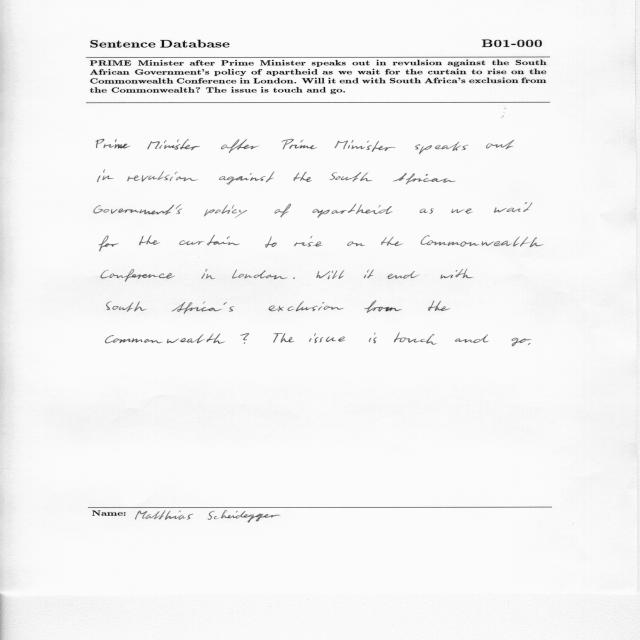word: (421, 235, 544, 247), (105, 333, 225, 344), (313, 204, 393, 218), (94, 204, 182, 215), (101, 269, 175, 282), (269, 301, 344, 312), (127, 171, 198, 182), (172, 302, 234, 314), (335, 140, 396, 152), (219, 172, 274, 185), (393, 173, 456, 184), (415, 142, 468, 155), (179, 236, 240, 246), (204, 204, 247, 218), (147, 139, 200, 150), (232, 270, 288, 280), (221, 139, 259, 153), (394, 333, 437, 345), (364, 300, 402, 313), (107, 301, 147, 312), (330, 172, 372, 182), (494, 203, 532, 213), (309, 333, 345, 343), (282, 139, 317, 149), (441, 269, 474, 279), (294, 236, 323, 247), (96, 139, 131, 148), (455, 334, 489, 343), (99, 236, 119, 251), (486, 140, 514, 149), (317, 270, 345, 279), (388, 271, 419, 279), (428, 300, 450, 311), (274, 204, 291, 217), (139, 236, 160, 246), (273, 333, 294, 343), (97, 170, 114, 182), (381, 237, 403, 246), (294, 172, 312, 182), (512, 338, 532, 346), (265, 236, 277, 248), (202, 269, 216, 279), (451, 209, 473, 214), (240, 333, 249, 344), (347, 241, 365, 246), (364, 270, 374, 279), (369, 333, 377, 344), (420, 208, 434, 214), (293, 277, 295, 279), (528, 343, 530, 345)
